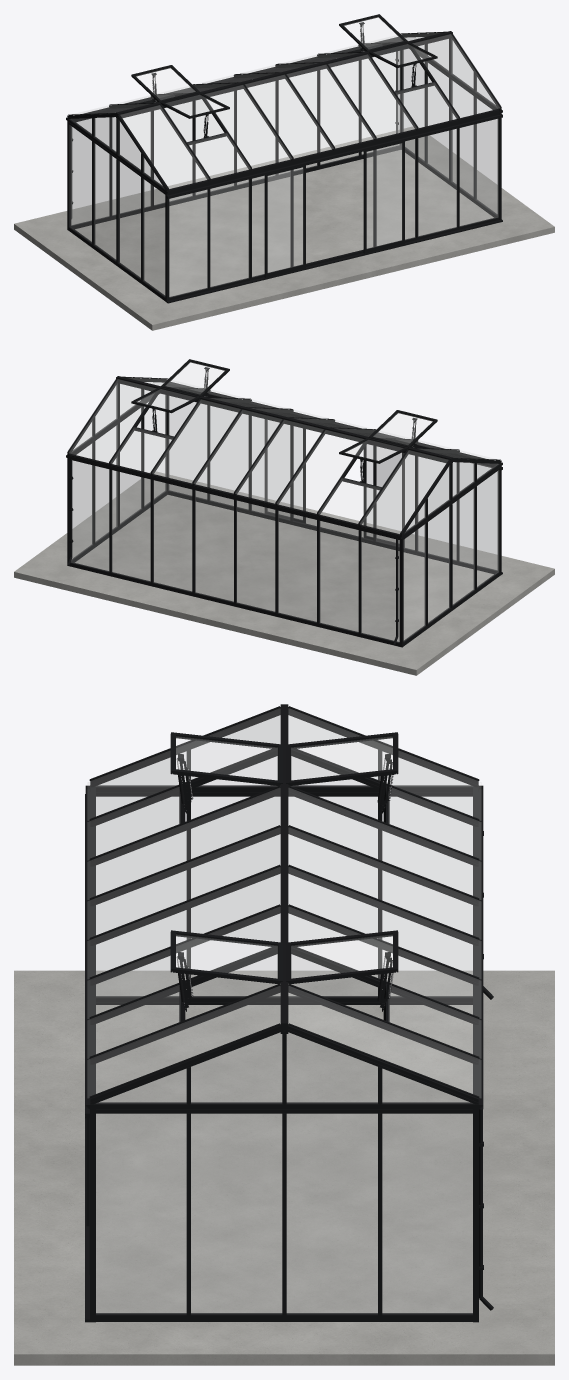
The model's file is sg-rect-10-2-19-11.glb.
The picture shows the model from 3 angles, top to bottom: view 1: azimuth 30°, elevation 25°; view 2: azimuth 150°, elevation 25°; view 3: azimuth 270°, elevation 25°; orthographic projection. The views are drawn at different scales.
Visible parts, largest first — view 1: scandiglas-rect-10-2-19-11; view 2: scandiglas-rect-10-2-19-11; view 3: scandiglas-rect-10-2-19-11.
Boxes of the visible parts, left/top/right/bottom form: scandiglas-rect-10-2-19-11: left=14, top=14, right=554, bottom=330; scandiglas-rect-10-2-19-11: left=14, top=359, right=554, bottom=675; scandiglas-rect-10-2-19-11: left=14, top=704, right=554, bottom=1365.
Bounding box in the file's own units: 7.35 × 2.89 × 4.38.
5 materials, 1 textured.
